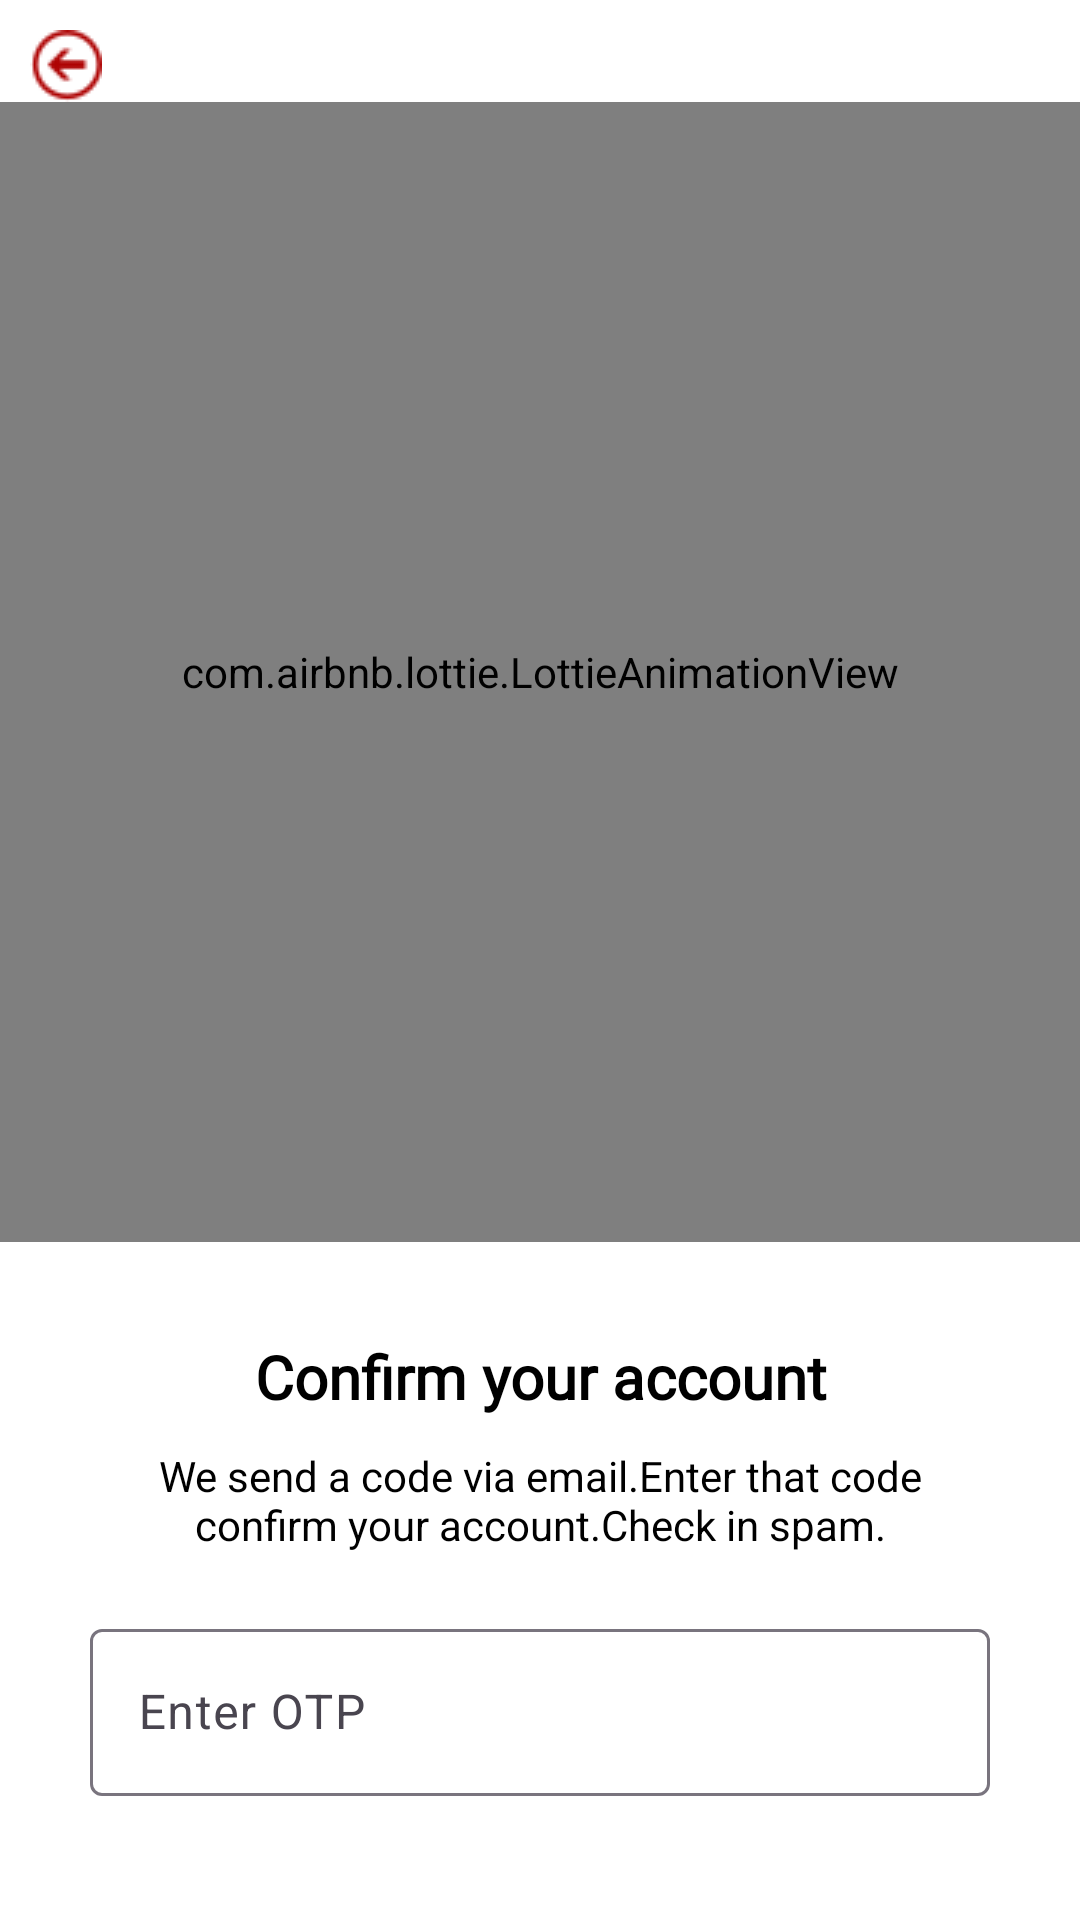

Icon click points for this 1080x1920 phone screenshot, format [x,y]:
backarrow: [67,65]
